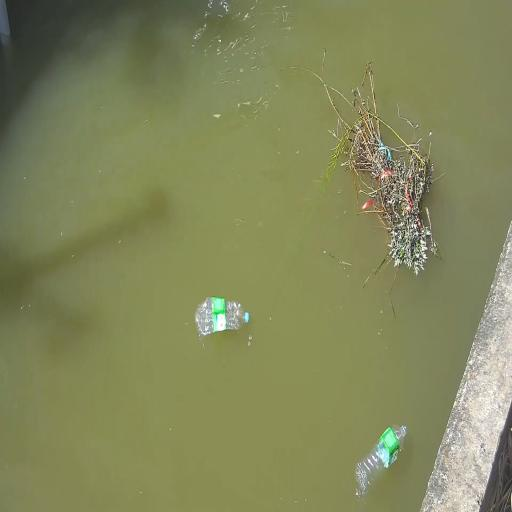plastic: (356, 426, 406, 495), (195, 297, 248, 336), (245, 312, 249, 323)
twig: (294, 62, 439, 275)
